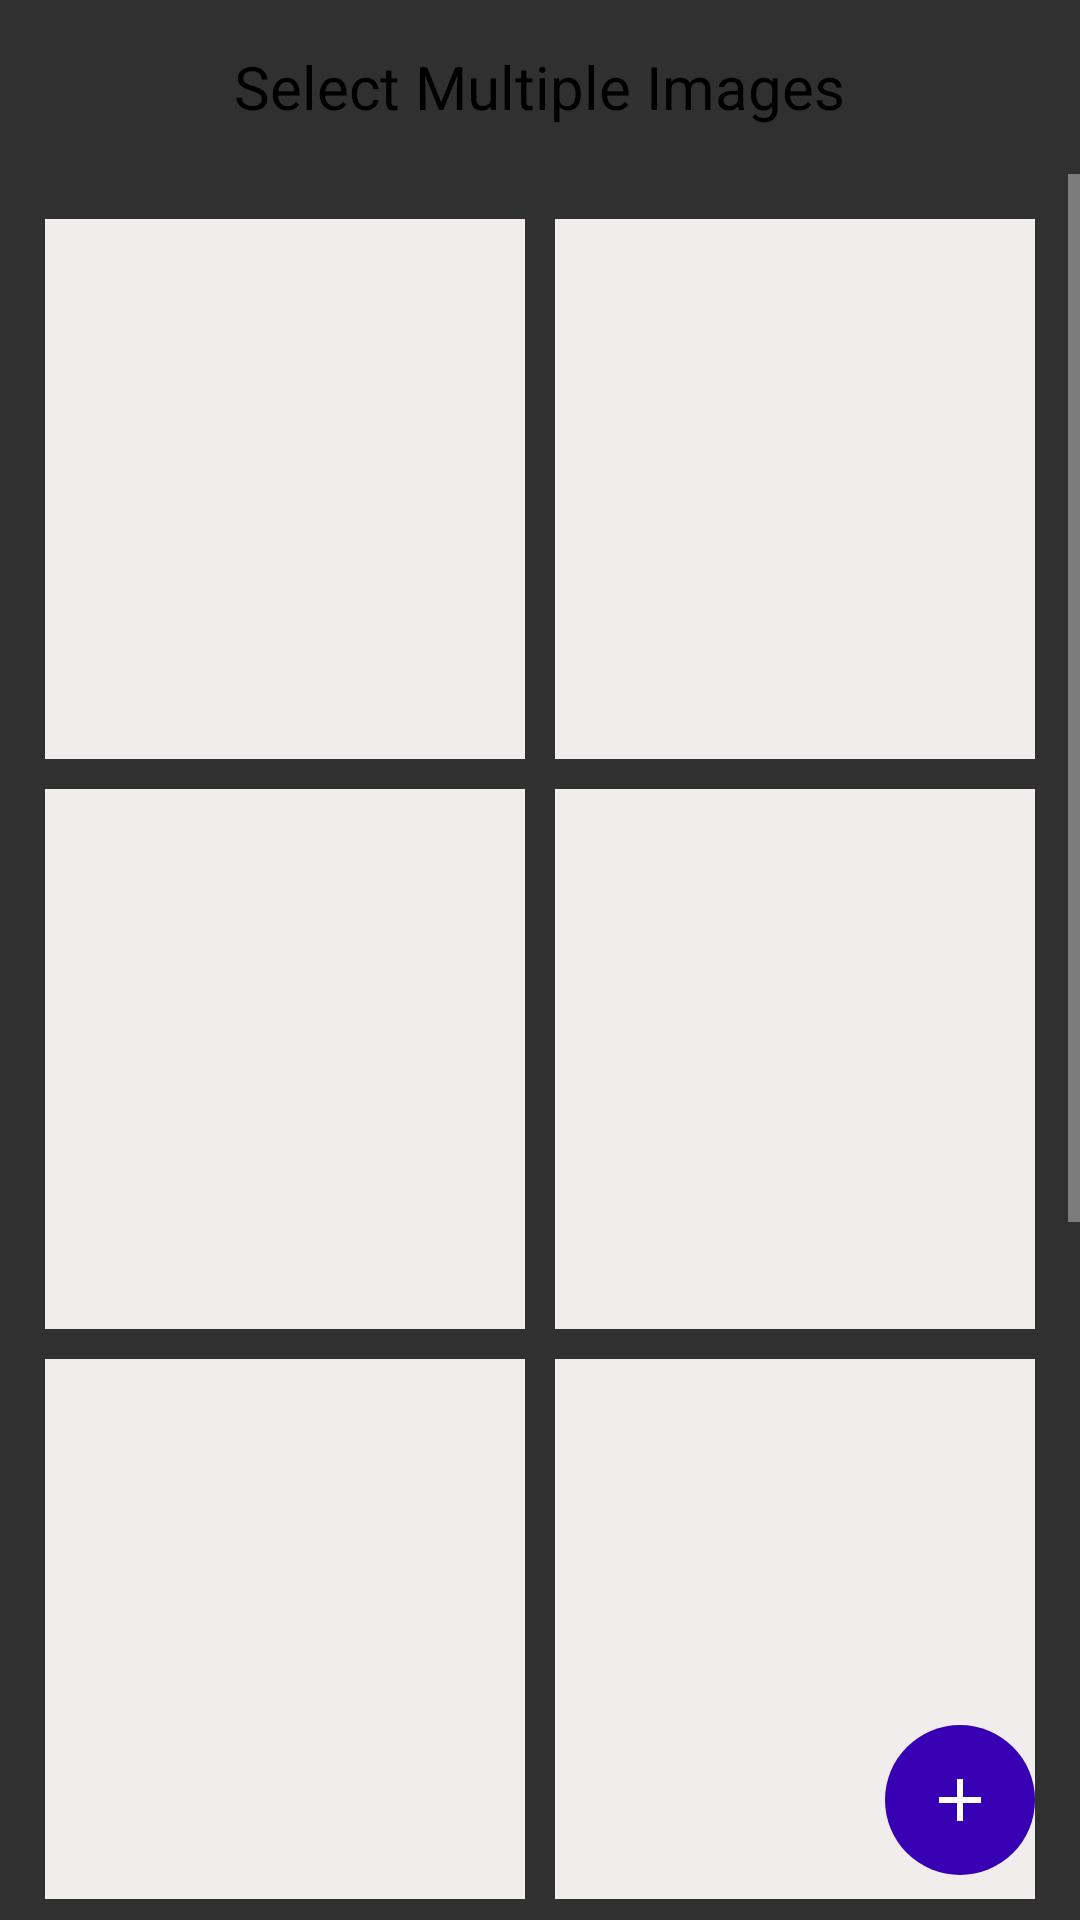

Point at icon controls on the screen. Image size 1080px x 1920px, points as (x,y).
add: (960,1800)
